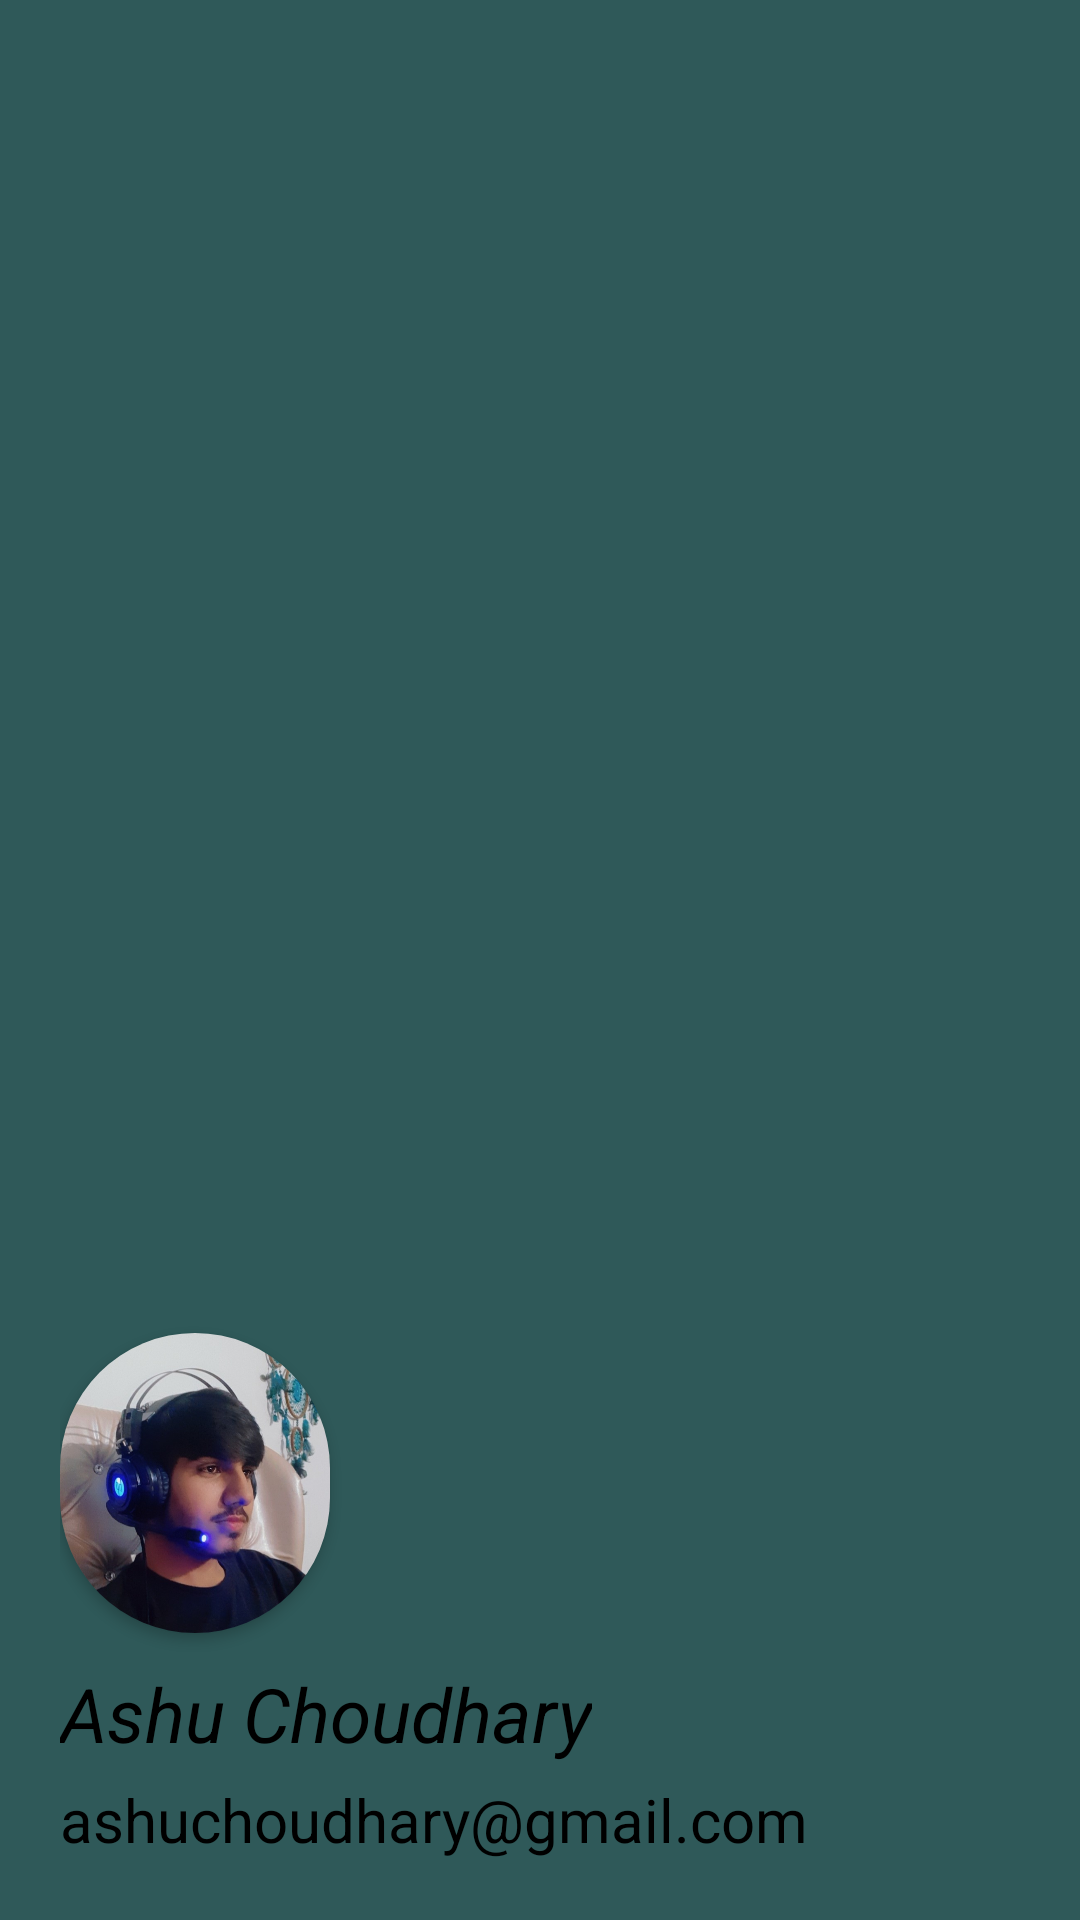

Named icons in this screenshot (1080 × 1920) and their bounding boxes, (x1, y1, x2, y2):
profile: (60, 1333, 330, 1633)
